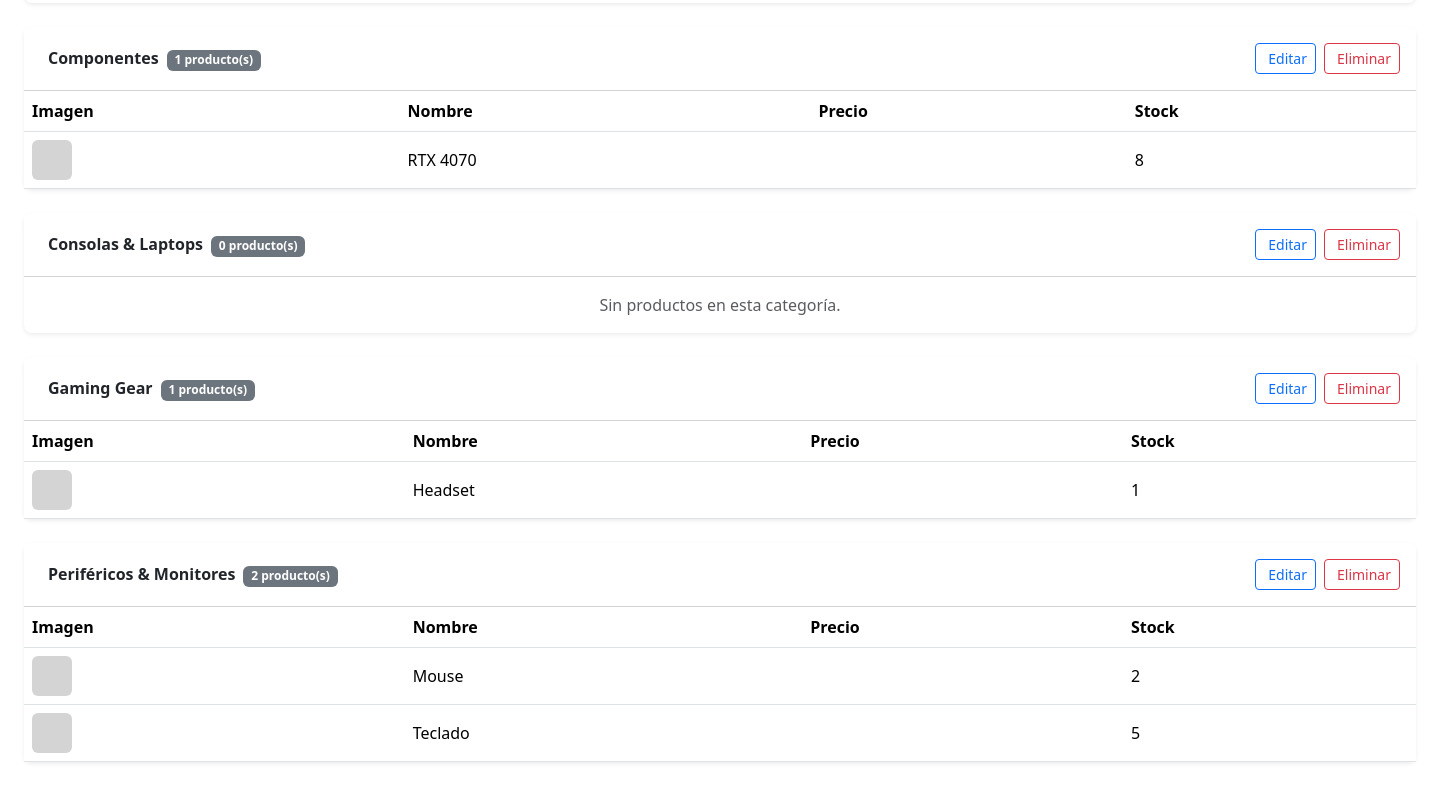
Scenario: AdminCategorias › editar › "Editar" abre el formulario con el nombre actual
The image size is (1440, 810).
(page scrolled)
expect the text "Periféricos & Monitores" is shown: met, box [48,563,235,585]
Click the button "Editar" in the row of "Periféricos & Monitores" at [1286, 574], box [1255,559,1316,590]
(page scrolled)
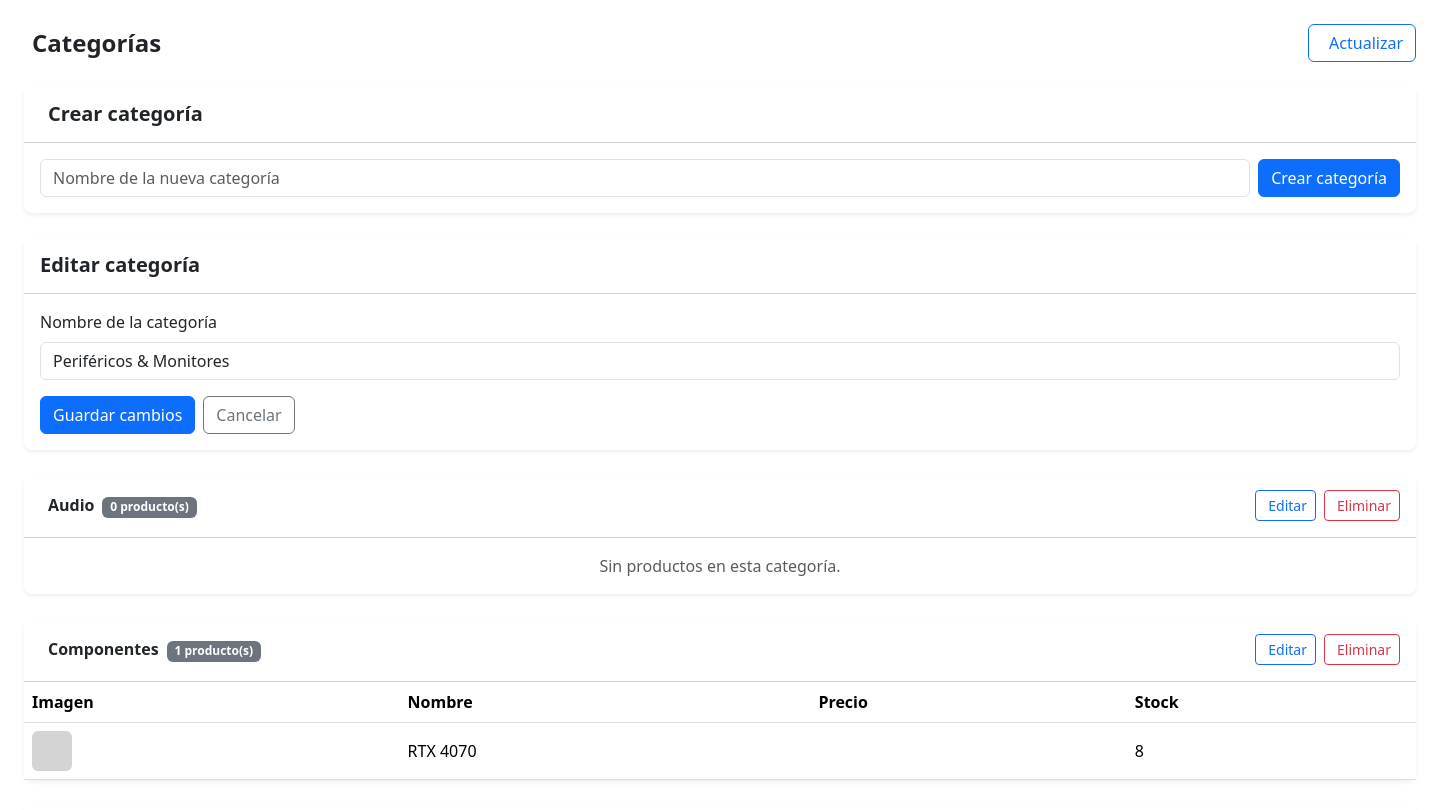
expect the field labelled "Nombre de la categoría" holds "Periféricos & Monitores": met, box [40,342,1400,380]
